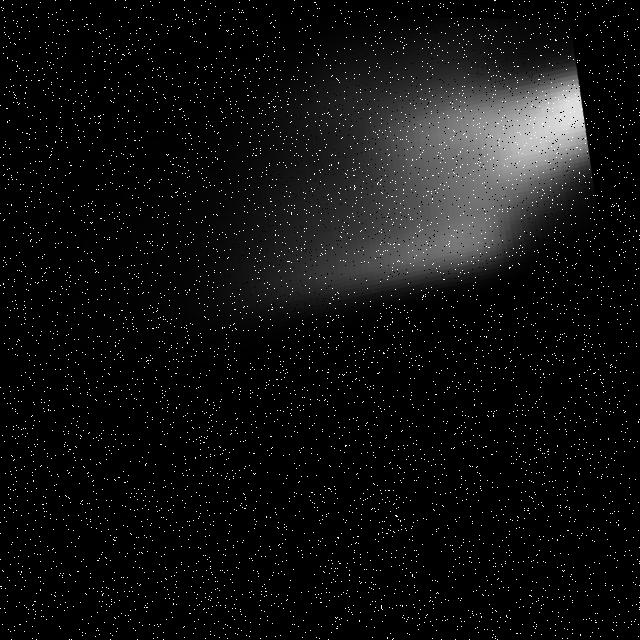person: (19, 2, 629, 379)
